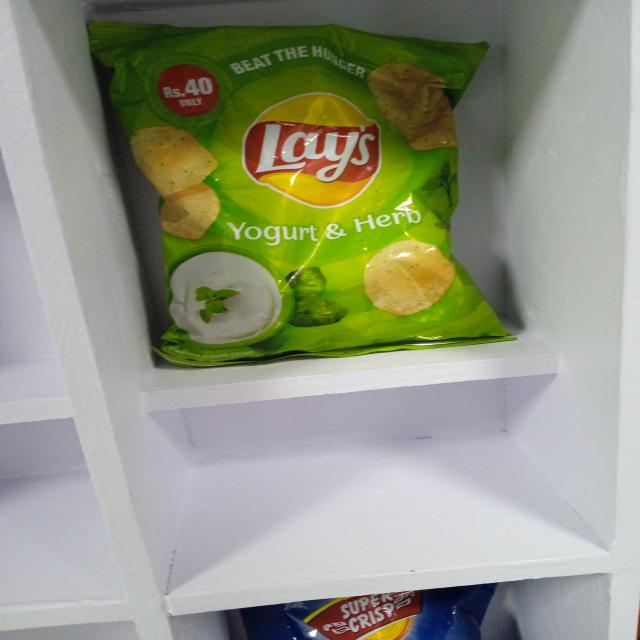Plastic: (162, 36, 459, 350), (232, 610, 487, 638)
